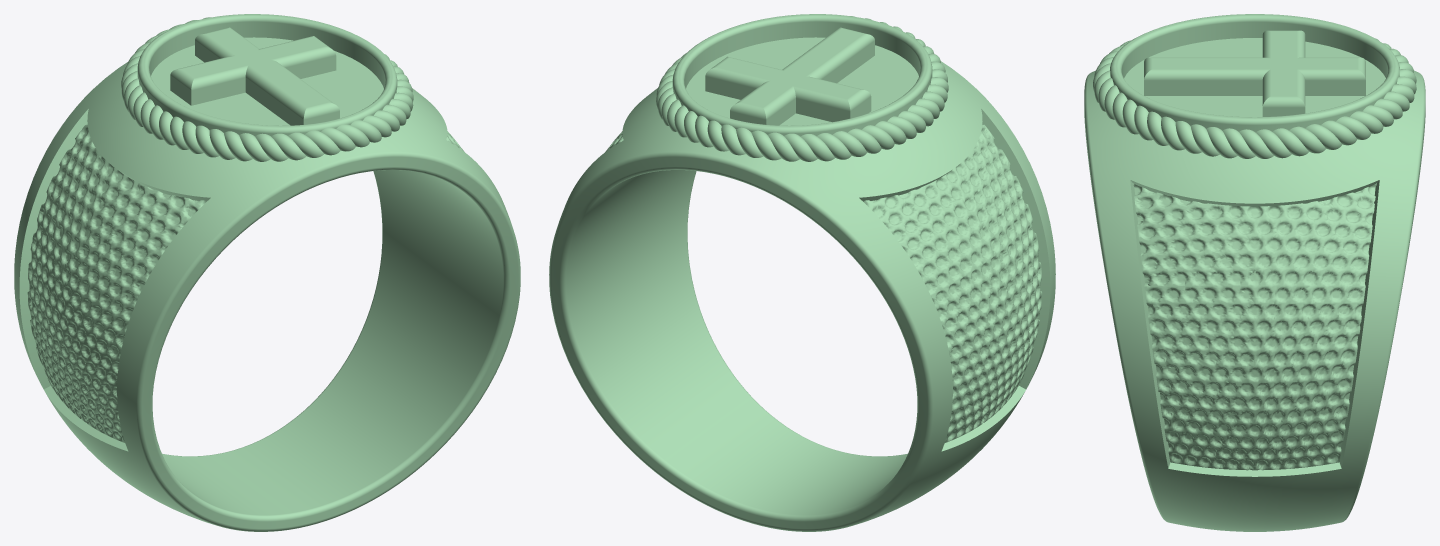
3 renders of one model, left to right at view 1: azimuth 30°, elevation 25°; view 2: azimuth 150°, elevation 25°; view 3: azimuth 270°, elevation 25°, orthographic. The views are drawn at different scales.
Parts seen in each view (by area): view 1: Anel Redondo Cruz.3dm; view 2: Anel Redondo Cruz.3dm; view 3: Anel Redondo Cruz.3dm.
Part boxes in pixels (x1,y1,x2,y2): Anel Redondo Cruz.3dm: (14,14,520,531); Anel Redondo Cruz.3dm: (549,14,1055,531); Anel Redondo Cruz.3dm: (1084,14,1425,531).
Size of the model in its own units: 2.51 by 2.56 by 1.78.
